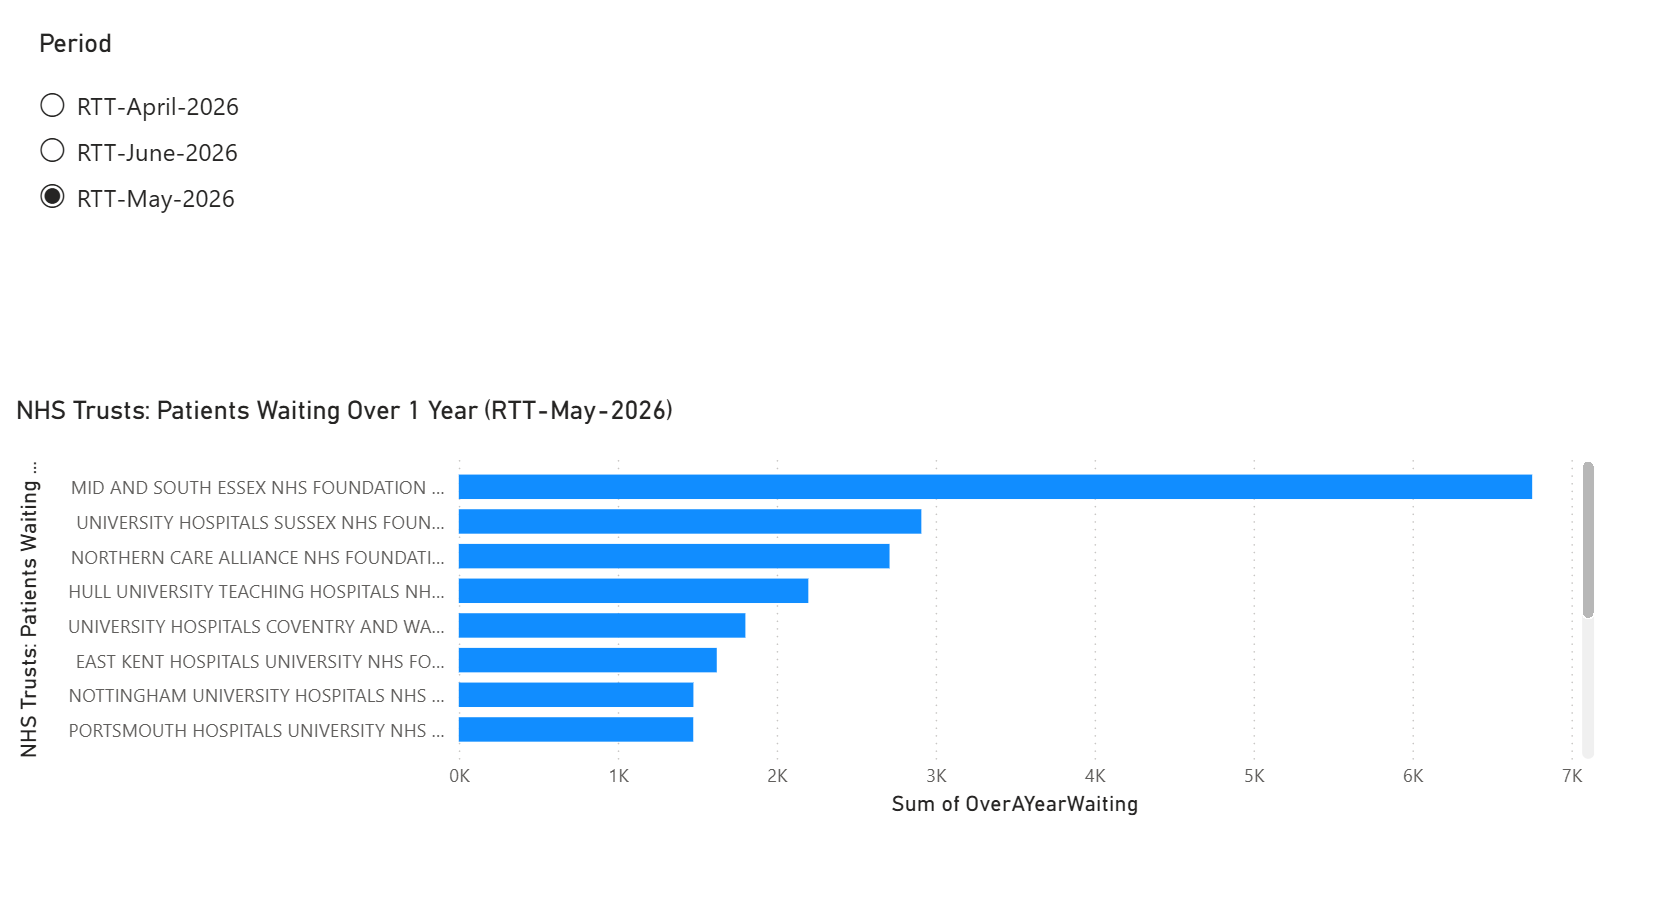

The dashboard page shown, as its layout file describes it:
{"tool":"powerbi","page":{"name":"Page 1","canvas":[1280,720],"ordinal":0},"visuals":[{"type":"clusteredBarChart","fields":{"Category":["Query.Provider_Org_Name"],"Y":["Sum(Query.OverAYearWaiting)"]},"box":[149.9,338.3,1043.1,280.1],"z":0},{"type":"listSlicer","fields":{"Values":["Query.Period"]},"box":[164.9,98.2,300,150],"z":1000}]}

Visuals, with their boxes on the page's 1280x720 design canvas (x1, y1, x2, y2). These are canvas units, not pixel positions in the 1653x899 screenshot, which may show the page scaled, cropped or inside an application window:
clusteredBarChart - Query.Provider_Org_Name x Sum(Query.OverAYearWaiting): pyautogui.locateOnScreen(150, 338, 1193, 618)
listSlicer - Query.Period: pyautogui.locateOnScreen(165, 98, 465, 248)
